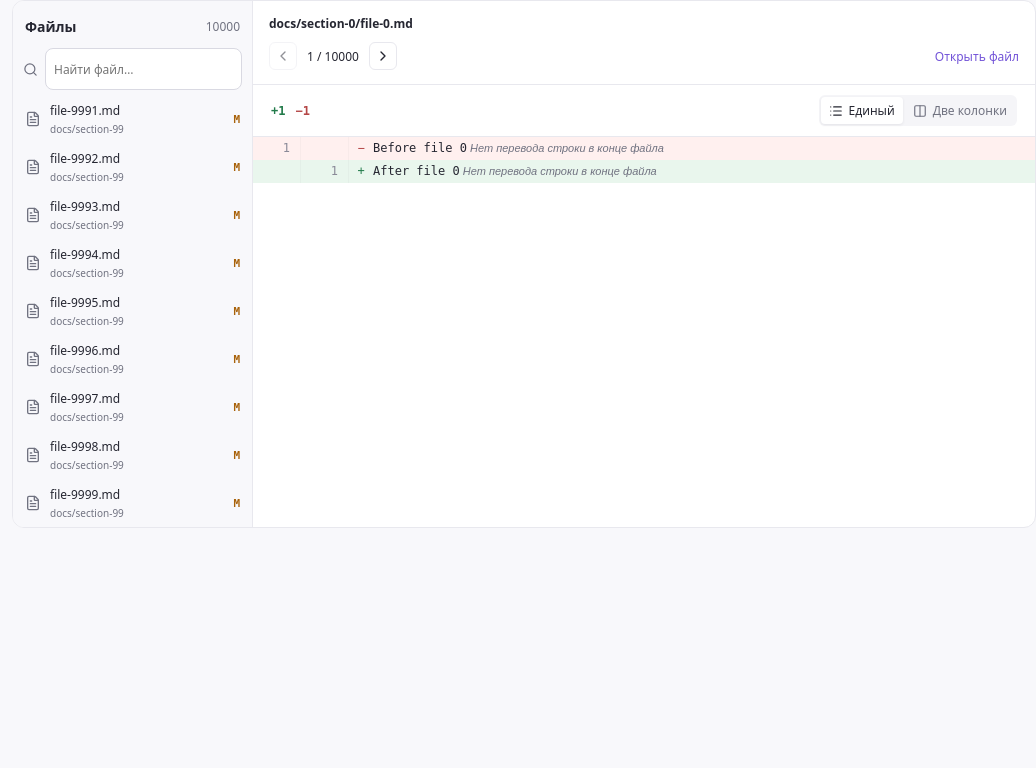
it: virtualizes 10,000 files and only mounts the selected diff
This screenshot has width=1036, height=768.
(page scrolled)
Check: the number of elements named "Сравнение изменений" is 1, box [253,85,1035,183]
Check: the text "After file 0" is shown, box [373,164,460,178]
What coordinates should you click on to do the following:
click the option with aria-label "docs/section-99/file-9999.md M"
I would click on:
 (132, 503)
Its box is [13,479,252,527].
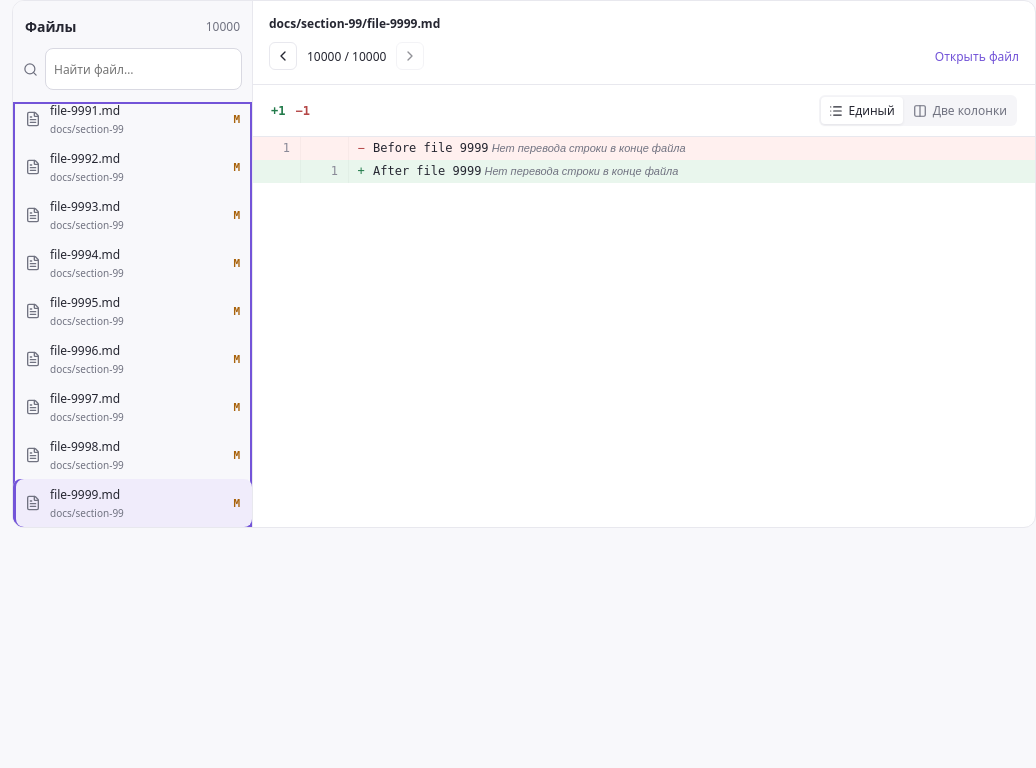
Check: the number of elements named "Сравнение изменений" is 1, box [253,85,1035,183]
Check: the text "After file 9999" is shown, box [373,164,481,178]
Check: the text "After file 0" is gone
